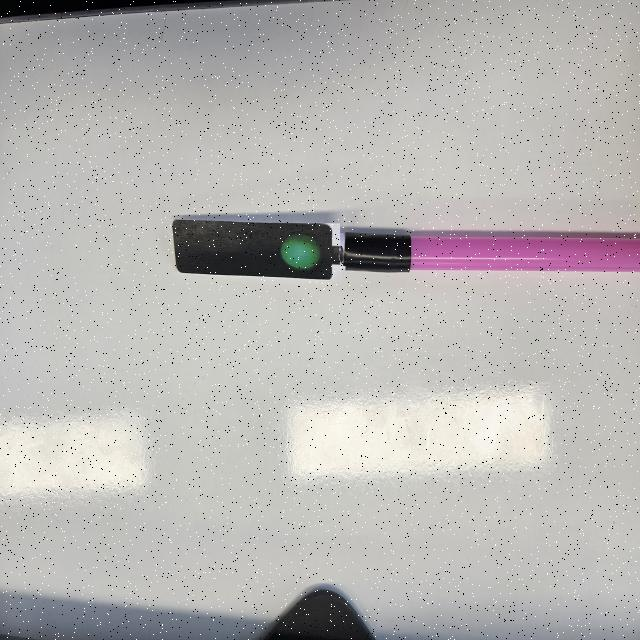traffic light: (172, 218, 343, 282)
